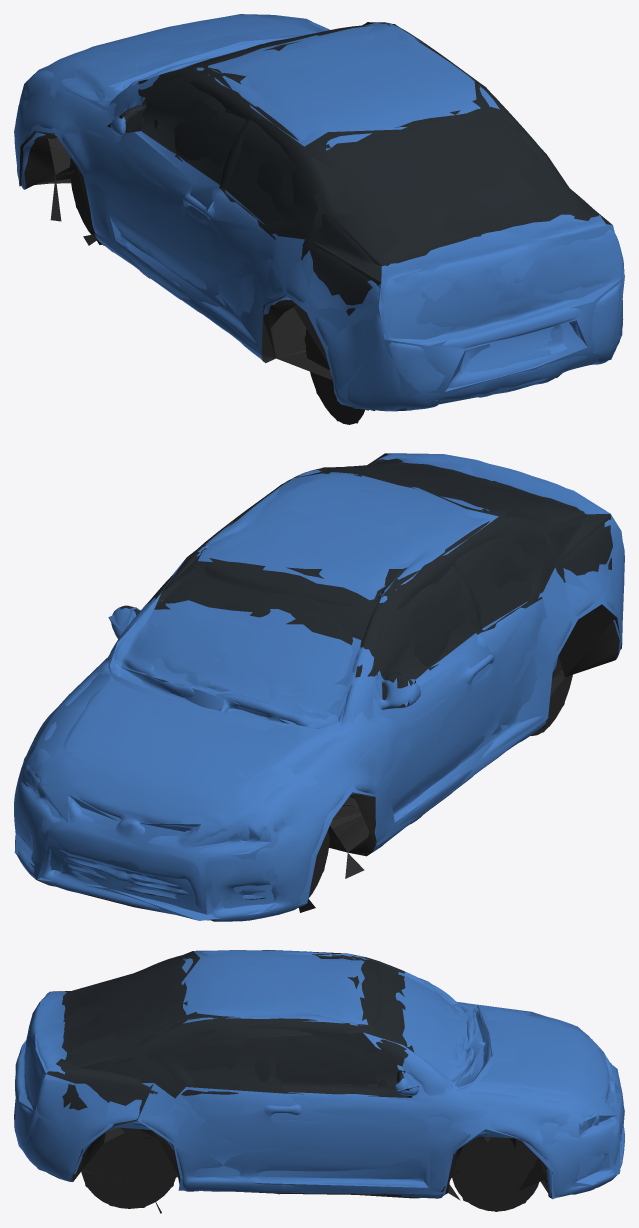
Rendered from scion-tc.glb.
The picture shows the model from 3 angles, top to bottom: view 1: azimuth 30°, elevation 25°; view 2: azimuth 150°, elevation 25°; view 3: azimuth 270°, elevation 25°; orthographic projection. The views are drawn at different scales.
Parts seen in each view (by area): view 1: body, far; view 2: body, far; view 3: body, far.
Part boxes in pixels (left/top/right/bottom): body: left=14, top=14, right=624, bottom=424; far: left=14, top=14, right=624, bottom=423; body: left=14, top=454, right=624, bottom=921; far: left=14, top=453, right=623, bottom=920; body: left=14, top=950, right=624, bottom=1213; far: left=14, top=950, right=624, bottom=1212.
Bounding box in the file's own units: 1.96 × 1.56 × 4.47.
